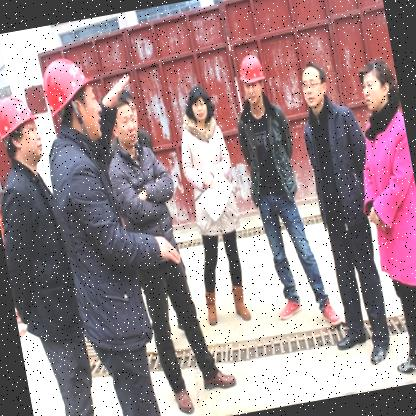capacete: (39, 50, 107, 150), (0, 90, 49, 169), (233, 50, 270, 106)
sem_capacete: (354, 56, 402, 118), (178, 79, 220, 130), (106, 95, 142, 151), (297, 60, 331, 112)
sem_colete_refletivo: (41, 122, 154, 356), (0, 153, 85, 346), (345, 103, 415, 284), (296, 99, 382, 236), (173, 112, 247, 238), (104, 141, 180, 263), (230, 96, 301, 206)
